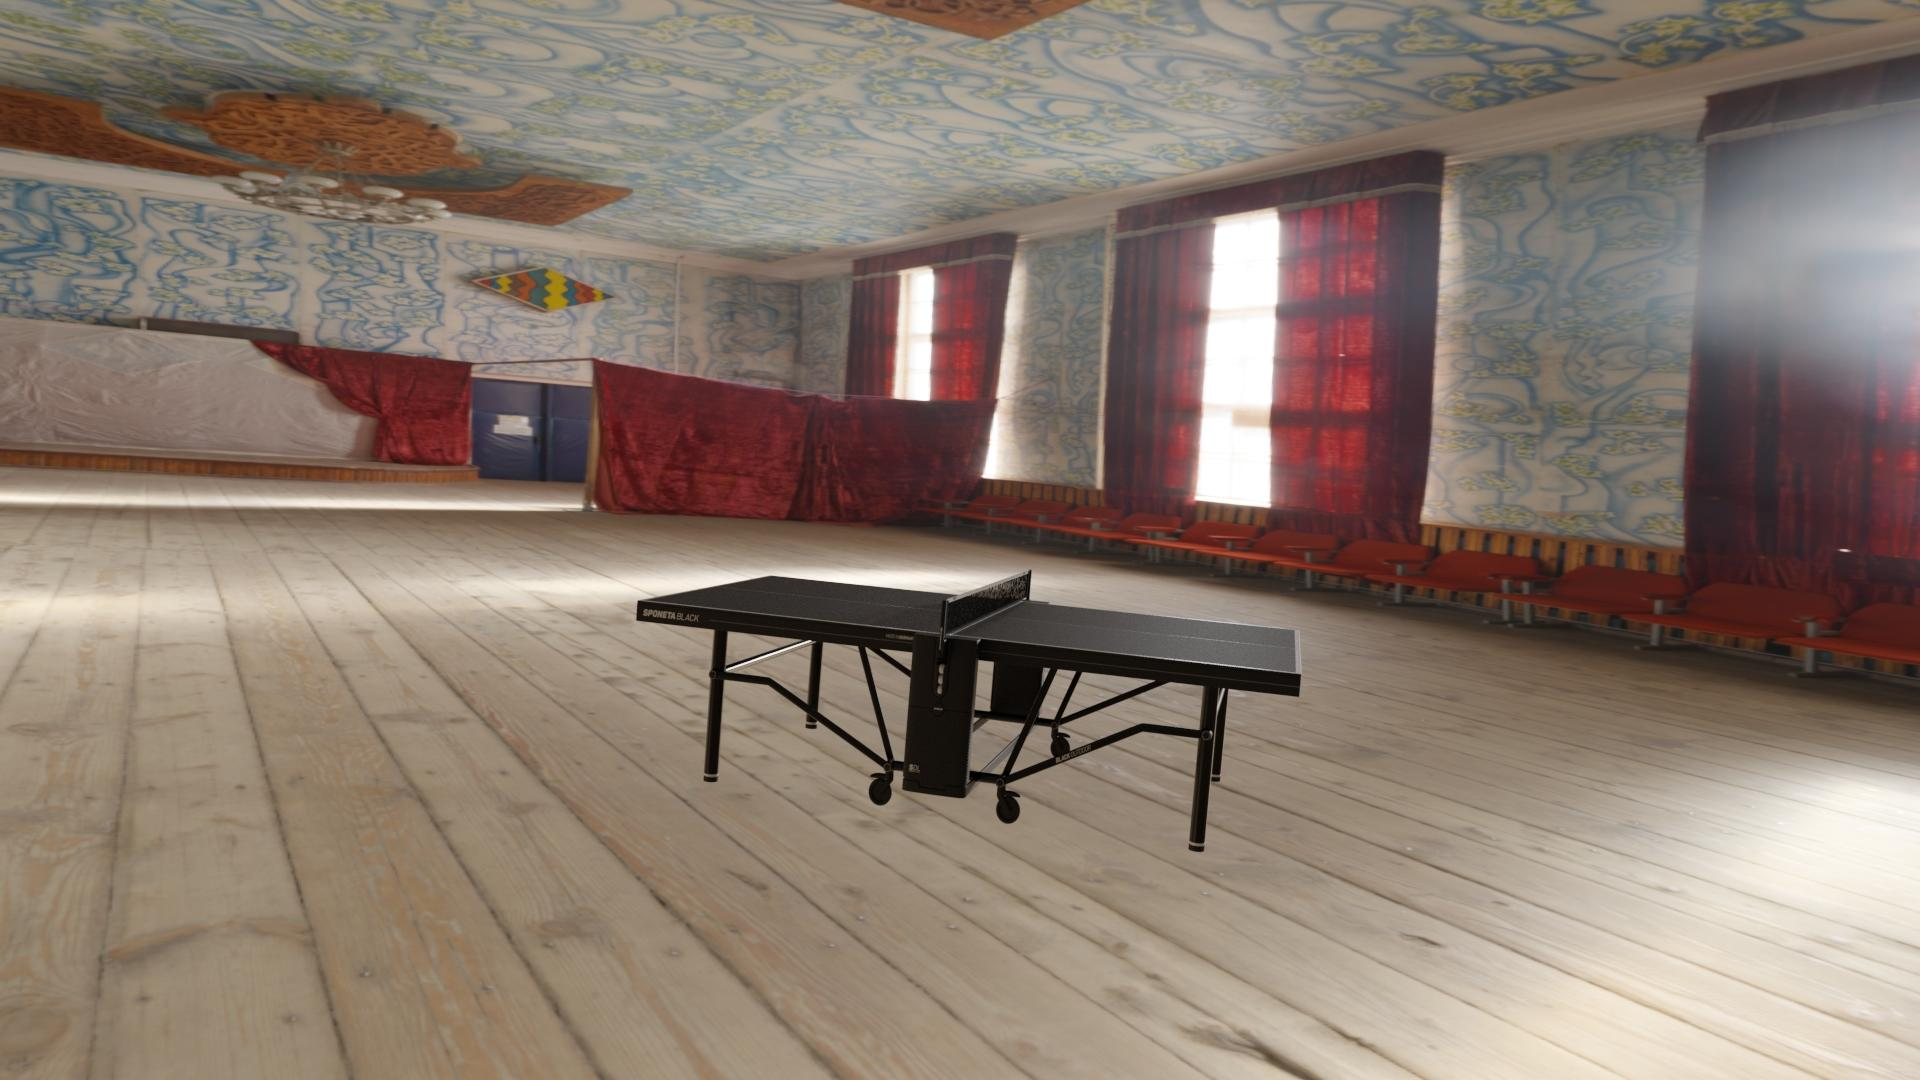table: (644, 576, 1296, 673)
